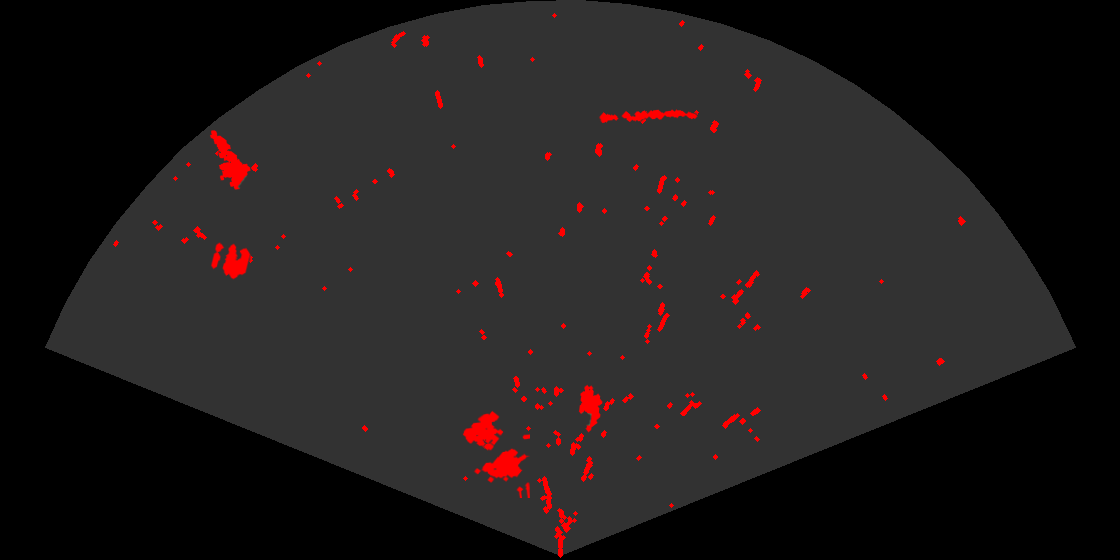AUV: (577, 383, 604, 434)
ball: (209, 241, 252, 281)
cage: (461, 409, 530, 498)
chain: (597, 108, 699, 125)
frogman: (208, 129, 252, 191)
